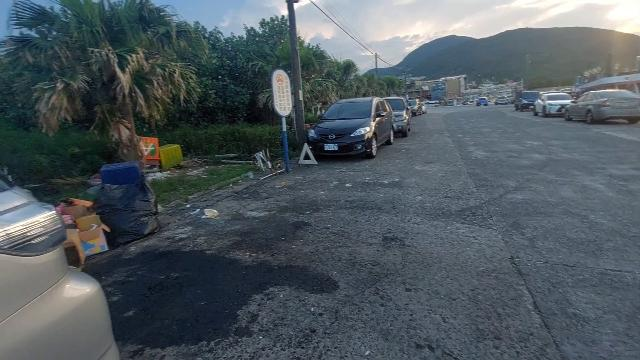pollute: (59, 160, 162, 270), (140, 134, 184, 175), (252, 150, 282, 180), (204, 210, 219, 217)
